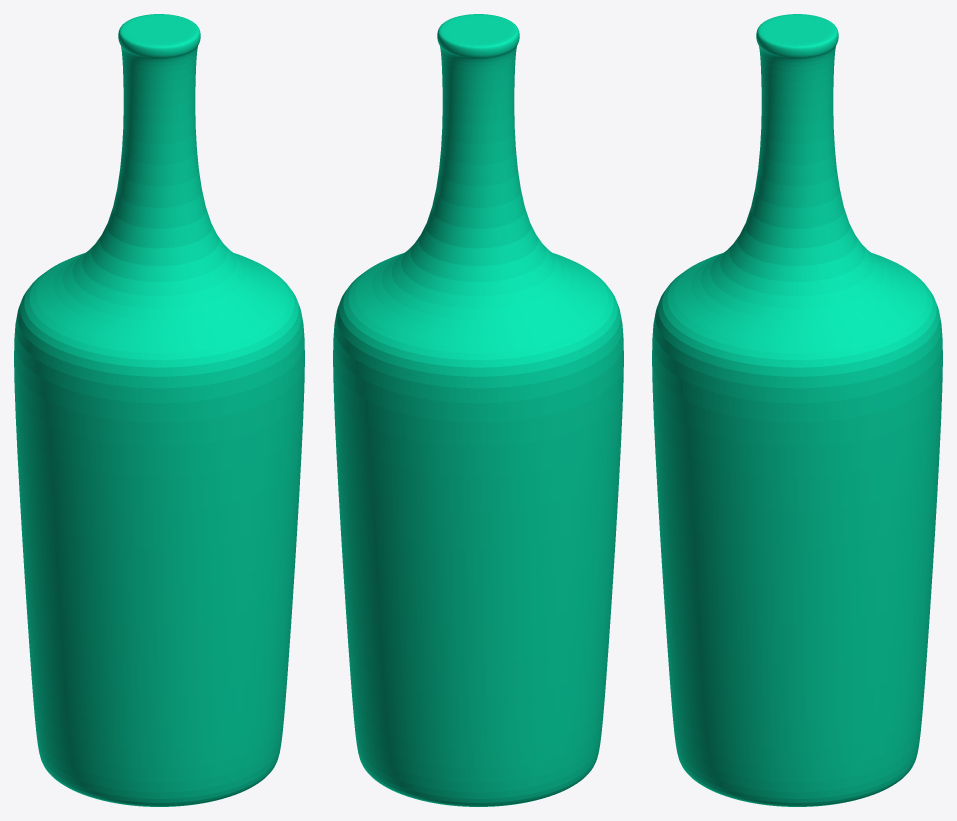
The model's file is bottle.fbx.
The picture shows the model from 3 angles, left to right: view 1: azimuth 30°, elevation 25°; view 2: azimuth 150°, elevation 25°; view 3: azimuth 270°, elevation 25°; orthographic projection.
Parts seen in each view (by area): view 1: Cylinder; view 2: Cylinder; view 3: Cylinder.
Part boxes in pixels (x1,y1,x2,y2): Cylinder: (14,14,304,806); Cylinder: (333,14,623,806); Cylinder: (652,14,942,806).
Size of the model in its own units: 189 by 524 by 189.
